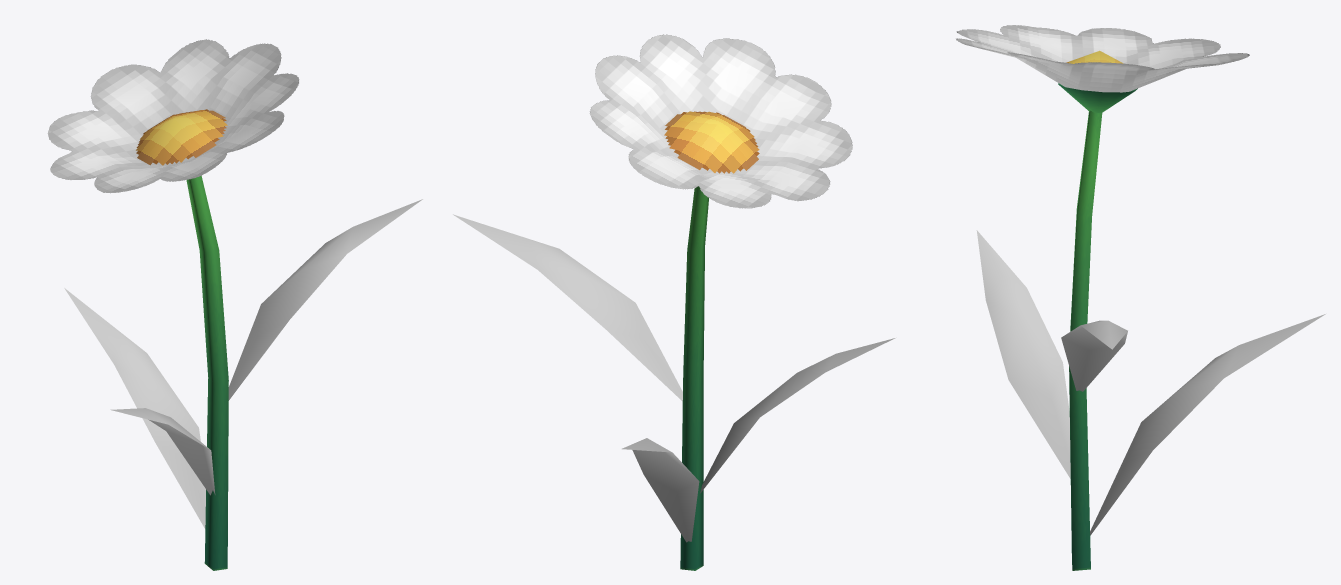
File: Flower_Daisy_1.fbx
3 views of the same model, side by side, from view 1: azimuth 30°, elevation 25°; view 2: azimuth 150°, elevation 25°; view 3: azimuth 270°, elevation 25° (orthographic). The views are drawn at different scales.
Parts seen in each view (by area): view 1: Cone.084, Cube.084, object6.068, object6.066, Cone.085, object6.067; view 2: Cone.084, object6.066, Cube.084, Cone.085, object6.068, object6.067; view 3: Cone.084, object6.067, Cube.084, object6.068, object6.066, Cylinder.088.
Boxes of the visible parts, bbox=[...] form: Cone.084: bbox=[47, 39, 299, 193]; Cube.084: bbox=[186, 176, 228, 570]; object6.068: bbox=[64, 288, 205, 528]; object6.066: bbox=[228, 199, 422, 400]; Cone.085: bbox=[136, 109, 227, 165]; object6.067: bbox=[110, 408, 215, 495]; Cone.084: bbox=[589, 34, 852, 208]; object6.066: bbox=[453, 214, 682, 400]; Cube.084: bbox=[680, 186, 708, 570]; Cone.085: bbox=[664, 111, 759, 173]; object6.068: bbox=[622, 438, 699, 542]; object6.067: bbox=[700, 338, 895, 493]; Cone.084: bbox=[956, 25, 1249, 92]; object6.067: bbox=[976, 230, 1070, 478]; Cube.084: bbox=[1069, 110, 1102, 570]; object6.068: bbox=[1090, 314, 1325, 535]; object6.066: bbox=[1061, 320, 1127, 391]; Cylinder.088: bbox=[1058, 83, 1137, 113].
Bounding box in the file's own units: 32.55 × 40.79 × 26.43.
